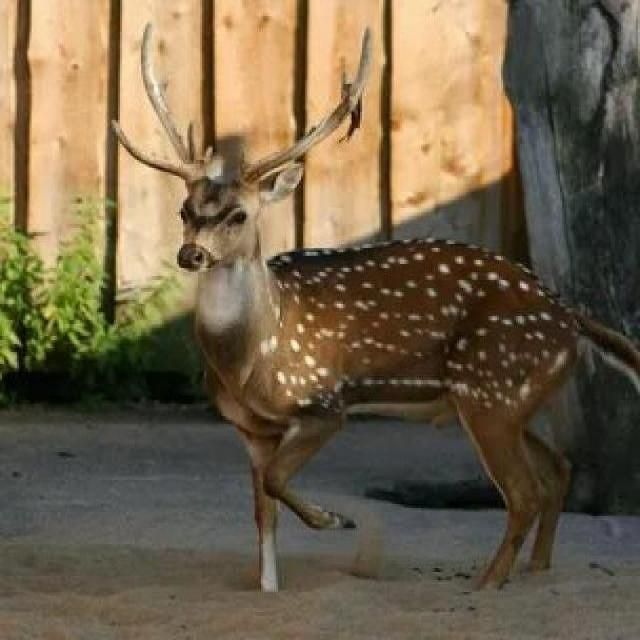deer: (48, 47, 572, 548)
